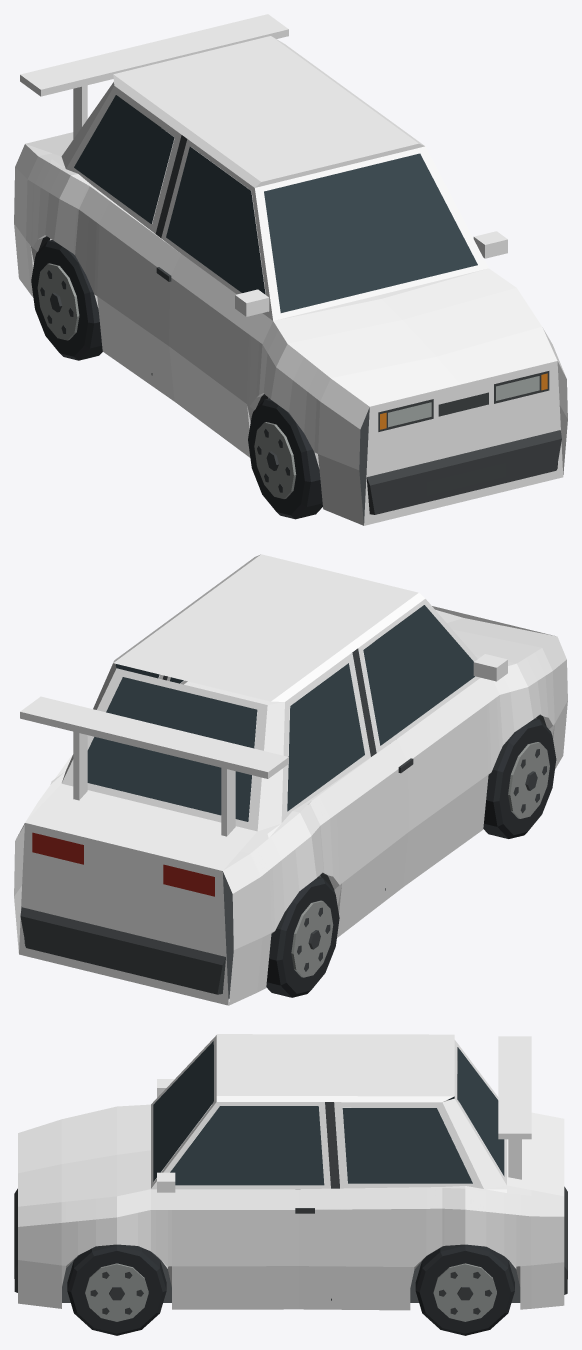
Rendered from pemberly_teal_corrida.glb.
The picture shows the model from 3 angles, top to bottom: view 1: azimuth 30°, elevation 25°; view 2: azimuth 150°, elevation 25°; view 3: azimuth 270°, elevation 25°; orthographic projection. The views are drawn at different scales.
Visible parts, largest first — view 1: pemberly_teal_corrida; view 2: pemberly_teal_corrida; view 3: pemberly_teal_corrida.
Boxes of the visible parts, bbox=[...] form: pemberly_teal_corrida: bbox=[14, 14, 567, 525]; pemberly_teal_corrida: bbox=[14, 554, 567, 1005]; pemberly_teal_corrida: bbox=[14, 1034, 567, 1335].
Size of the model in its own units: 1.6 by 1.62 by 3.64.
Materials: 8 (1 with a texture image).
